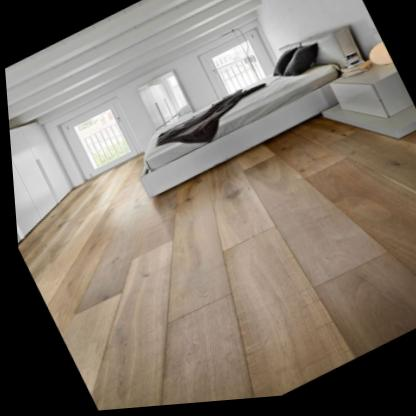Wooden floor: (14, 119, 416, 412)
